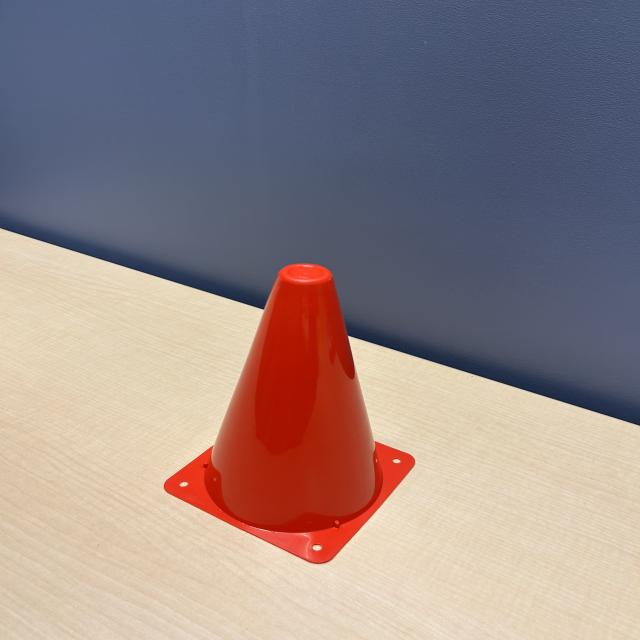orange cone: (160, 256, 420, 564)
